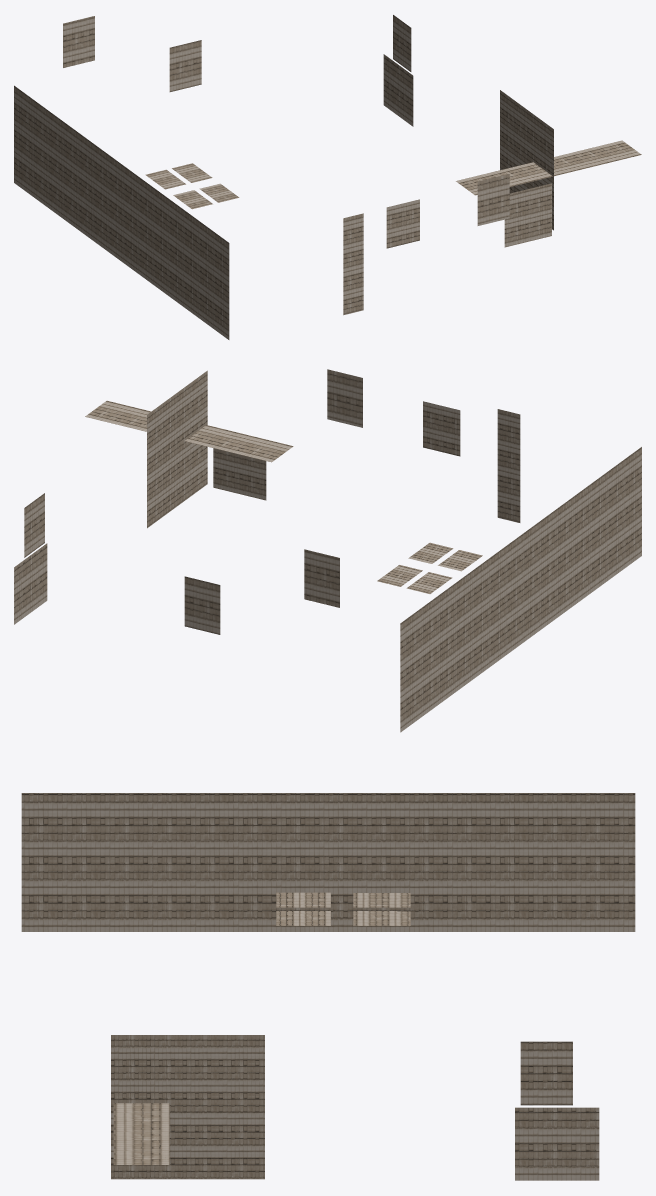
File: SM_HK_03_WireMesh_00.fbx
The picture shows the model from 3 angles, top to bottom: view 1: azimuth 30°, elevation 25°; view 2: azimuth 150°, elevation 25°; view 3: azimuth 270°, elevation 25°; orthographic projection. The views are drawn at different scales.
Visible parts, largest first — view 1: SM_HK_03_WireMesh_00; view 2: SM_HK_03_WireMesh_00; view 3: SM_HK_03_WireMesh_00.
Boxes of the visible parts, x1=… form: SM_HK_03_WireMesh_00: x1=14, y1=15, x2=641, y2=339; SM_HK_03_WireMesh_00: x1=14, y1=369, x2=641, y2=732; SM_HK_03_WireMesh_00: x1=21, y1=793, x2=635, y2=1180.
Size of the model in its own units: 5490 by 1749 by 4712.
